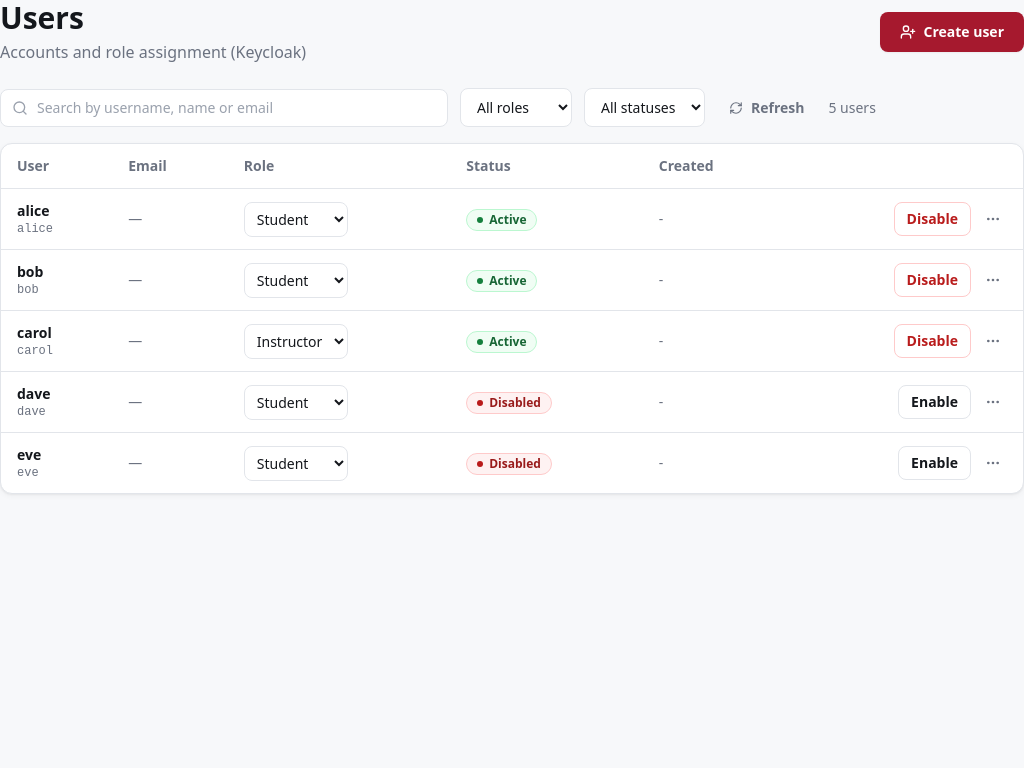
Test: keeps a just-disabled user visible under Active, then drops it once the view changes
Select "Active" in the dropdown named "Filter by status": (644, 108) [584, 88, 705, 127]
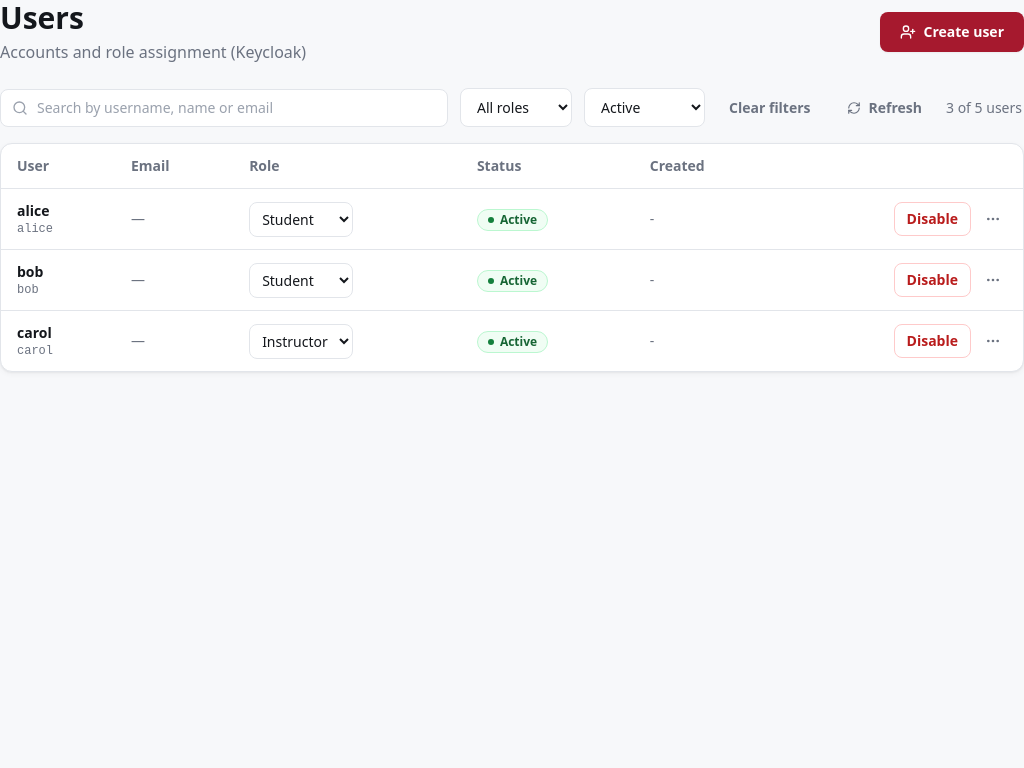
Click the 1st button "Disable": (932, 219) [894, 202, 971, 236]
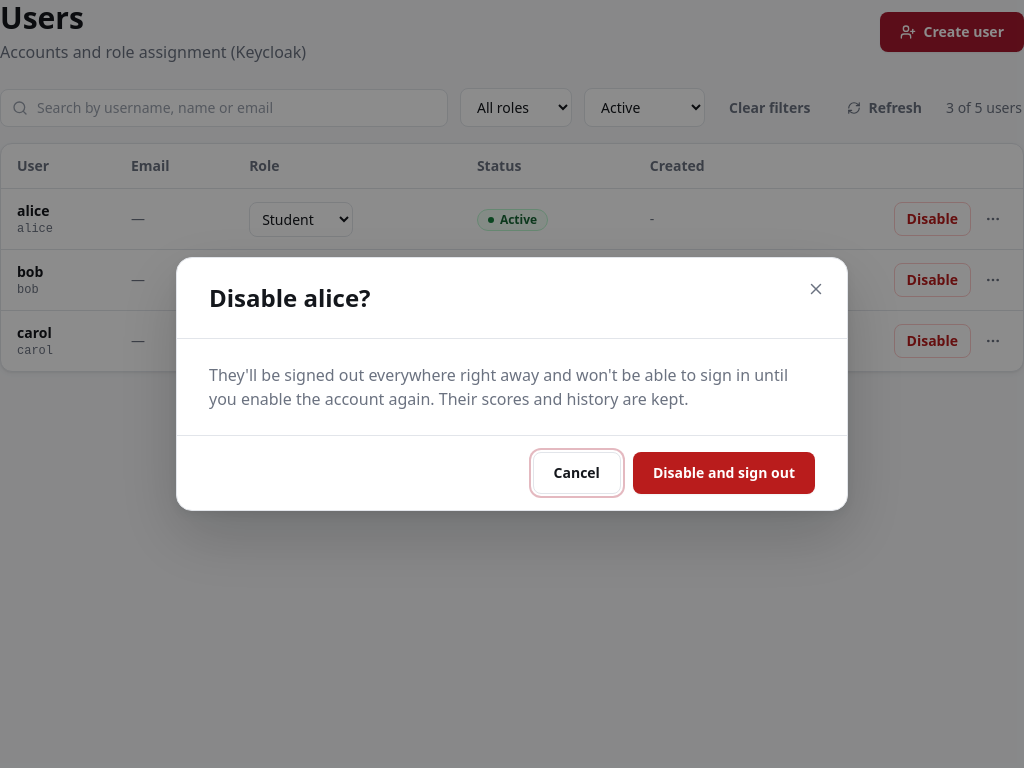
Click the button "Disable and sign out": (724, 473) [633, 452, 815, 494]
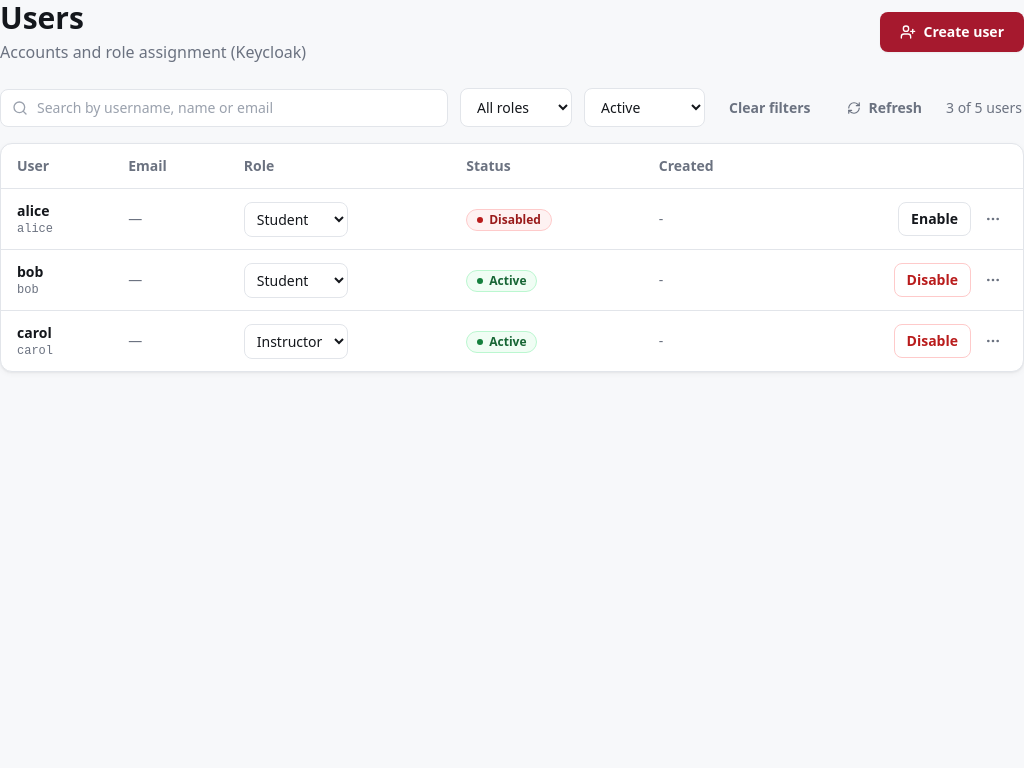
expect the 2nd text "alice" is shown: met, box [17, 222, 53, 236]
Select "All statuses" in the dropdown named "Filter by status": (644, 108) [584, 88, 705, 127]
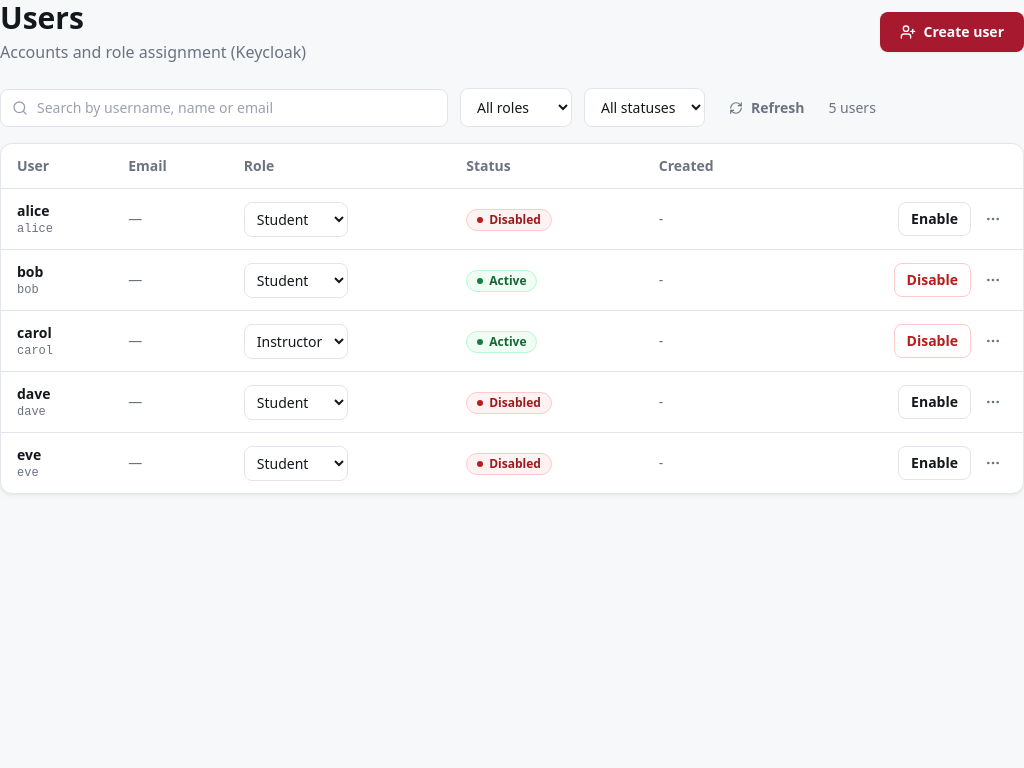
Select "Active" in the dropdown named "Filter by status": (644, 108) [584, 88, 705, 127]
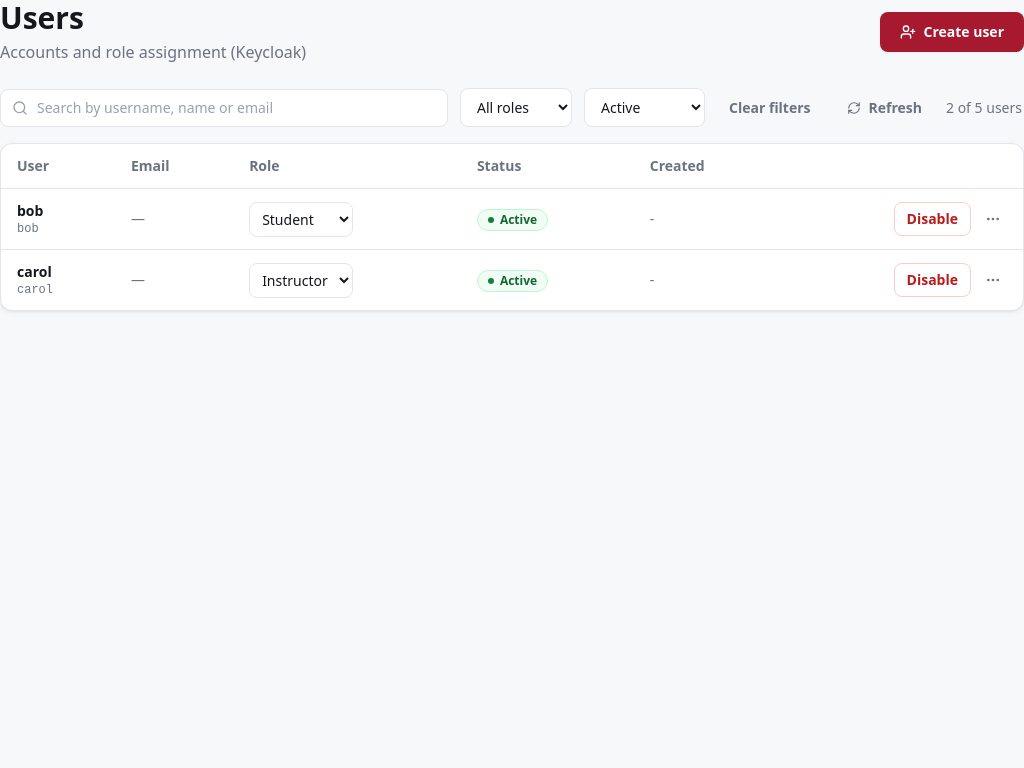
expect the text "alice" is gone: met
